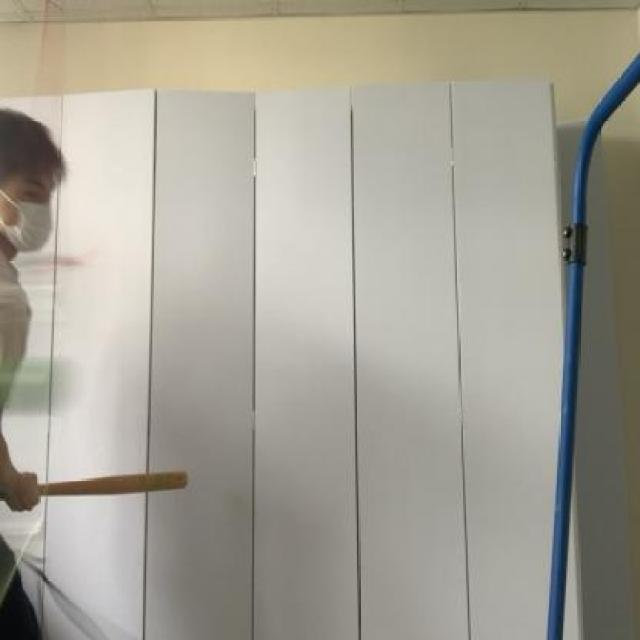baseball: (0, 340, 91, 415)
